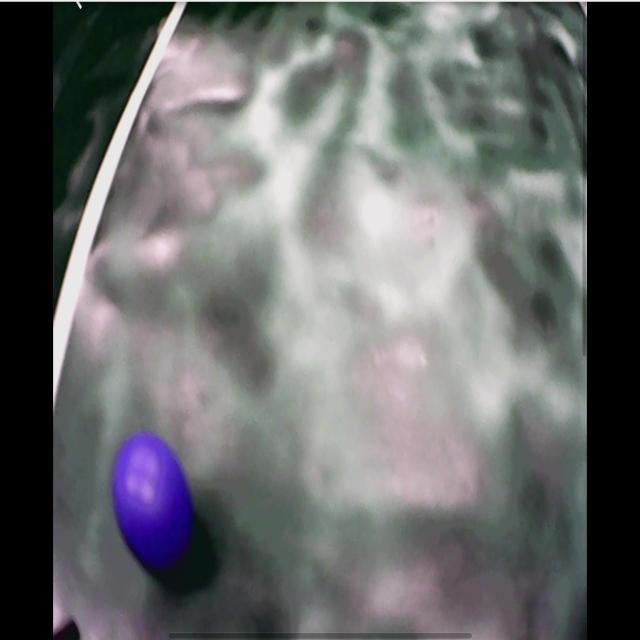ball: (114, 434, 188, 567)
